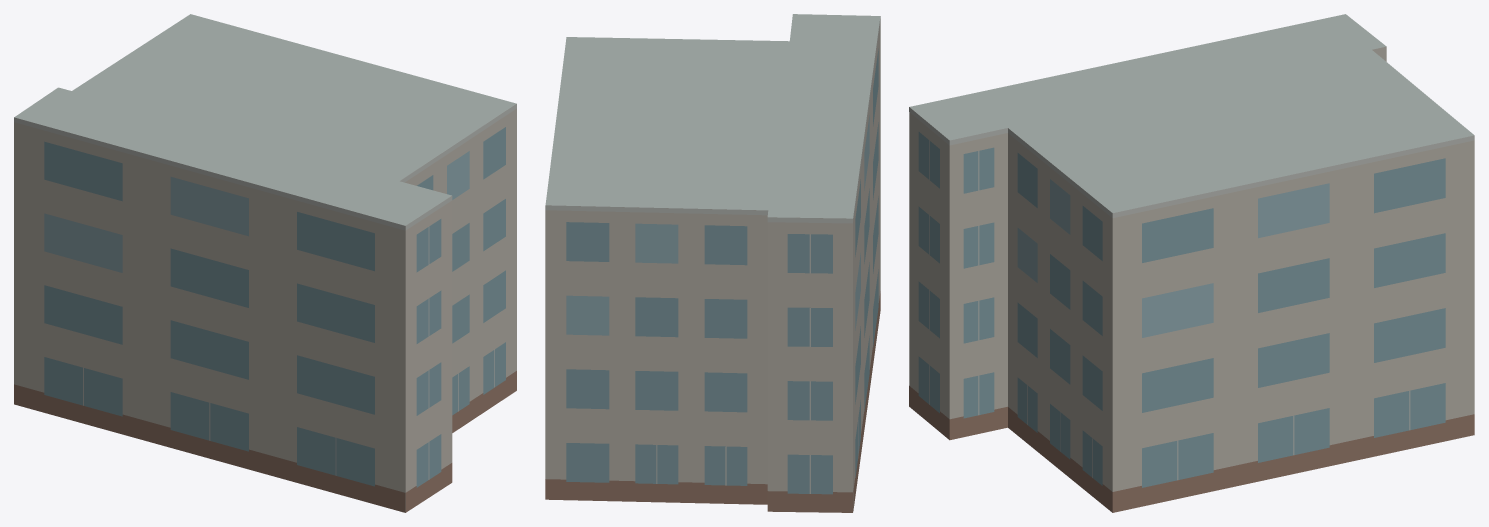
The model's file is survey-upis-32685796.glb.
3 renders of one model, left to right at view 1: azimuth 30°, elevation 25°; view 2: azimuth 150°, elevation 25°; view 3: azimuth 270°, elevation 25°, orthographic. The views are drawn at different scales.
Visible parts, largest first — view 1: survey-upis-32685796.tmp; view 2: survey-upis-32685796.tmp; view 3: survey-upis-32685796.tmp.
Part boxes in pixels (x1,y1,x2,y2): survey-upis-32685796.tmp: [14, 14, 516, 512]; survey-upis-32685796.tmp: [545, 14, 880, 512]; survey-upis-32685796.tmp: [909, 14, 1474, 512].
Size of the model in its own units: 20.9 by 14.65 by 25.07.
